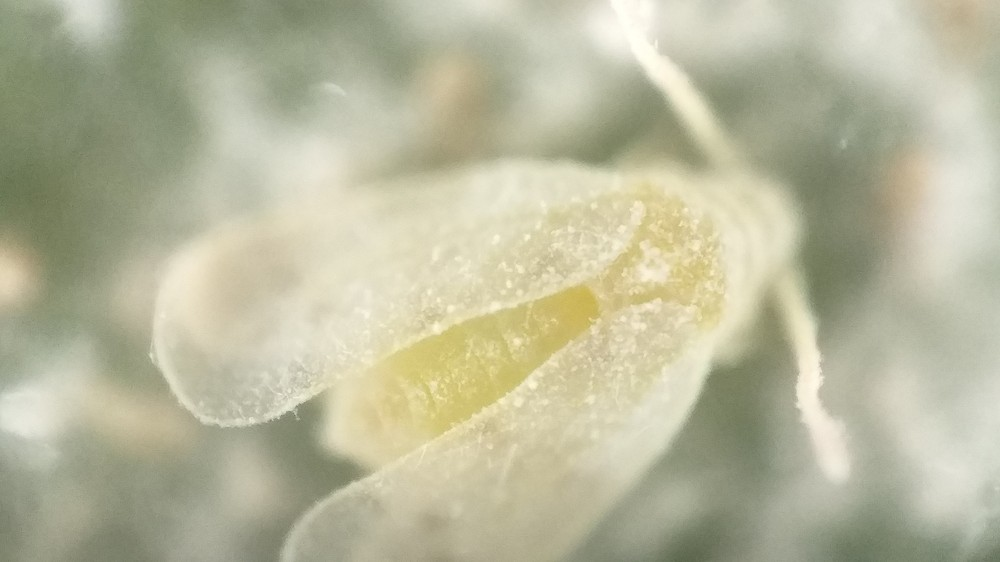Mosca Blanca: (153, 5, 883, 559)
